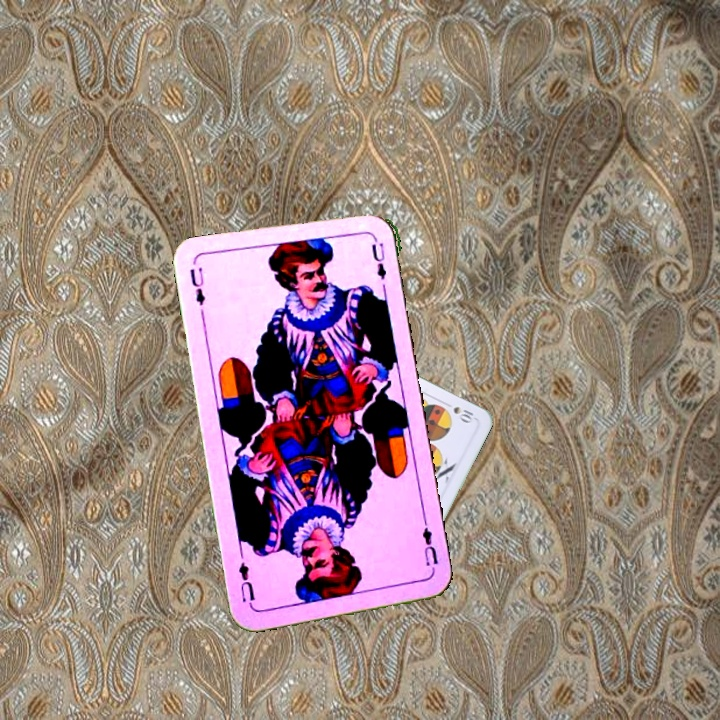EU: (418, 519, 441, 579), (186, 263, 208, 308)
S10: (440, 398, 476, 426)
